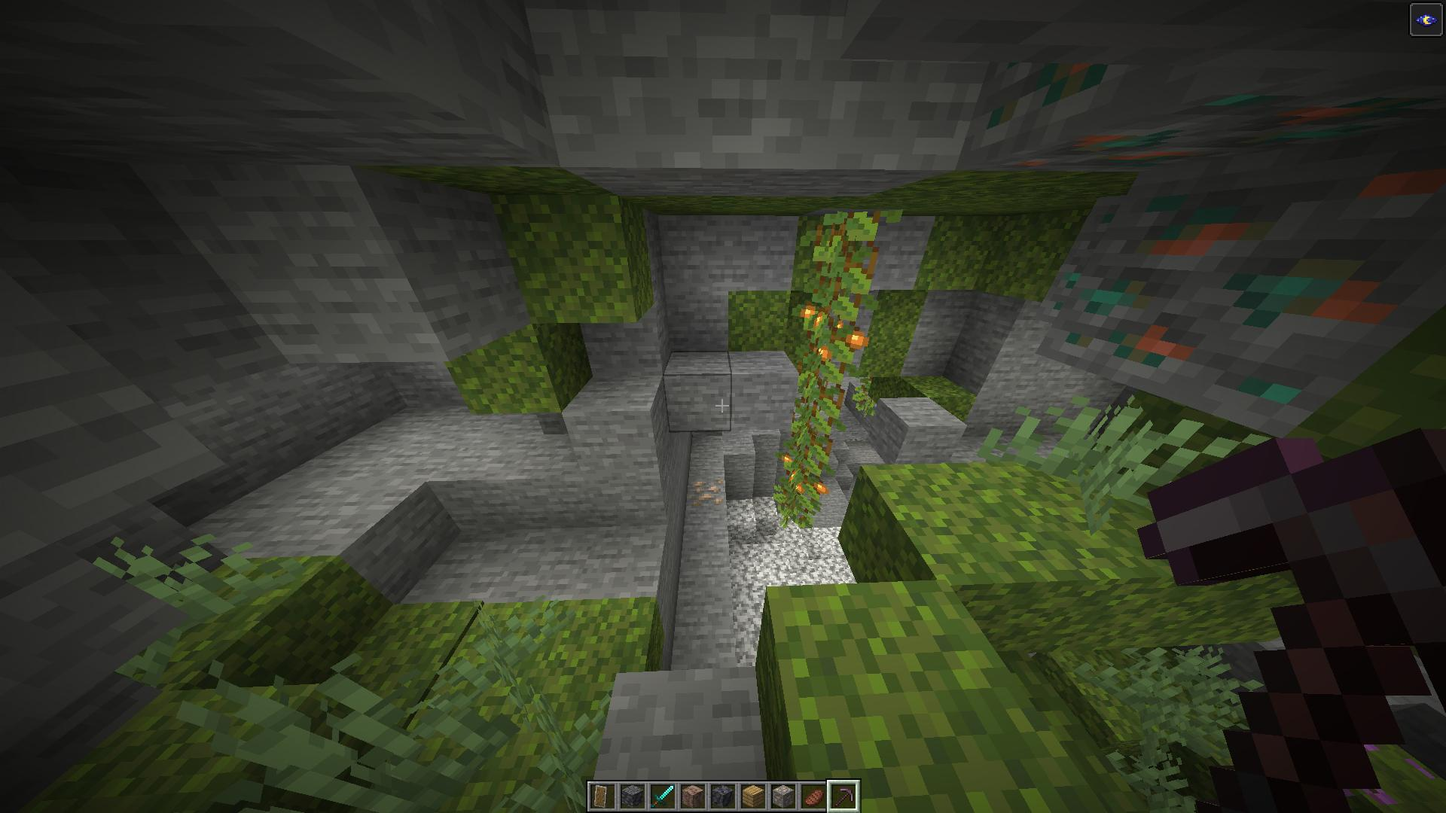iron ore: (683, 476, 724, 508)
